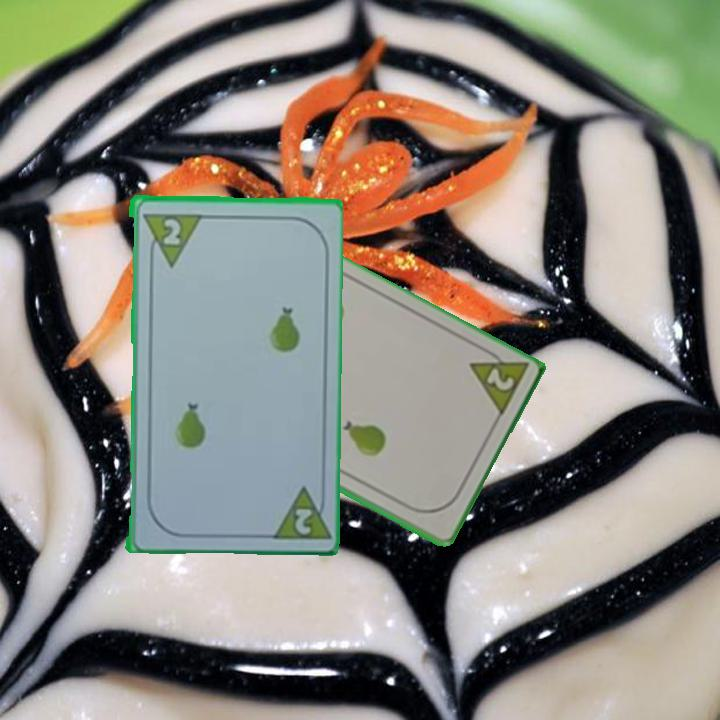2p: (464, 341, 530, 422), (138, 209, 201, 269), (291, 504, 314, 537)
